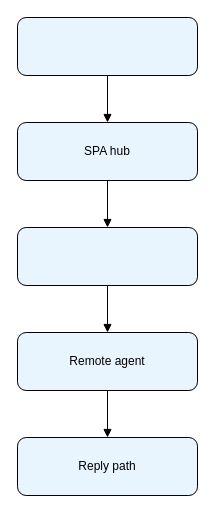
Some shapes in this 215 by 513 pixel diagram are drawn without their labels. Each missing label, with the centre of its shape:
"From hubs policy" belongs at point 107,256.
"Internal server" belongs at point 107,46.
